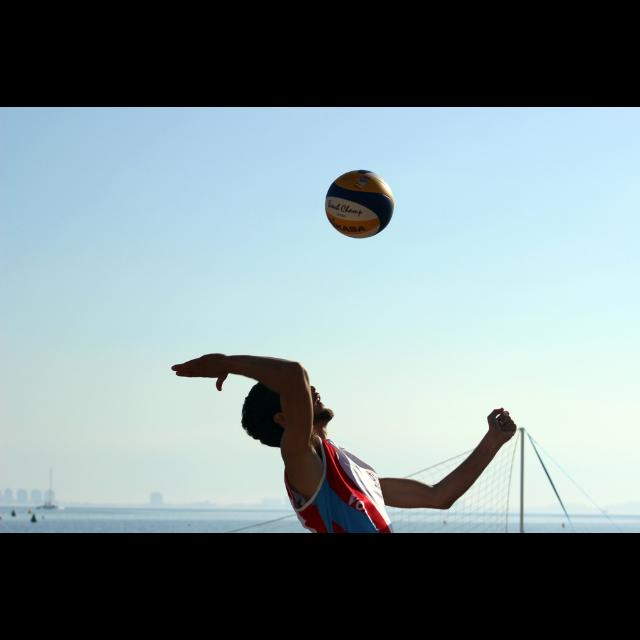Football: (322, 168, 393, 238)
